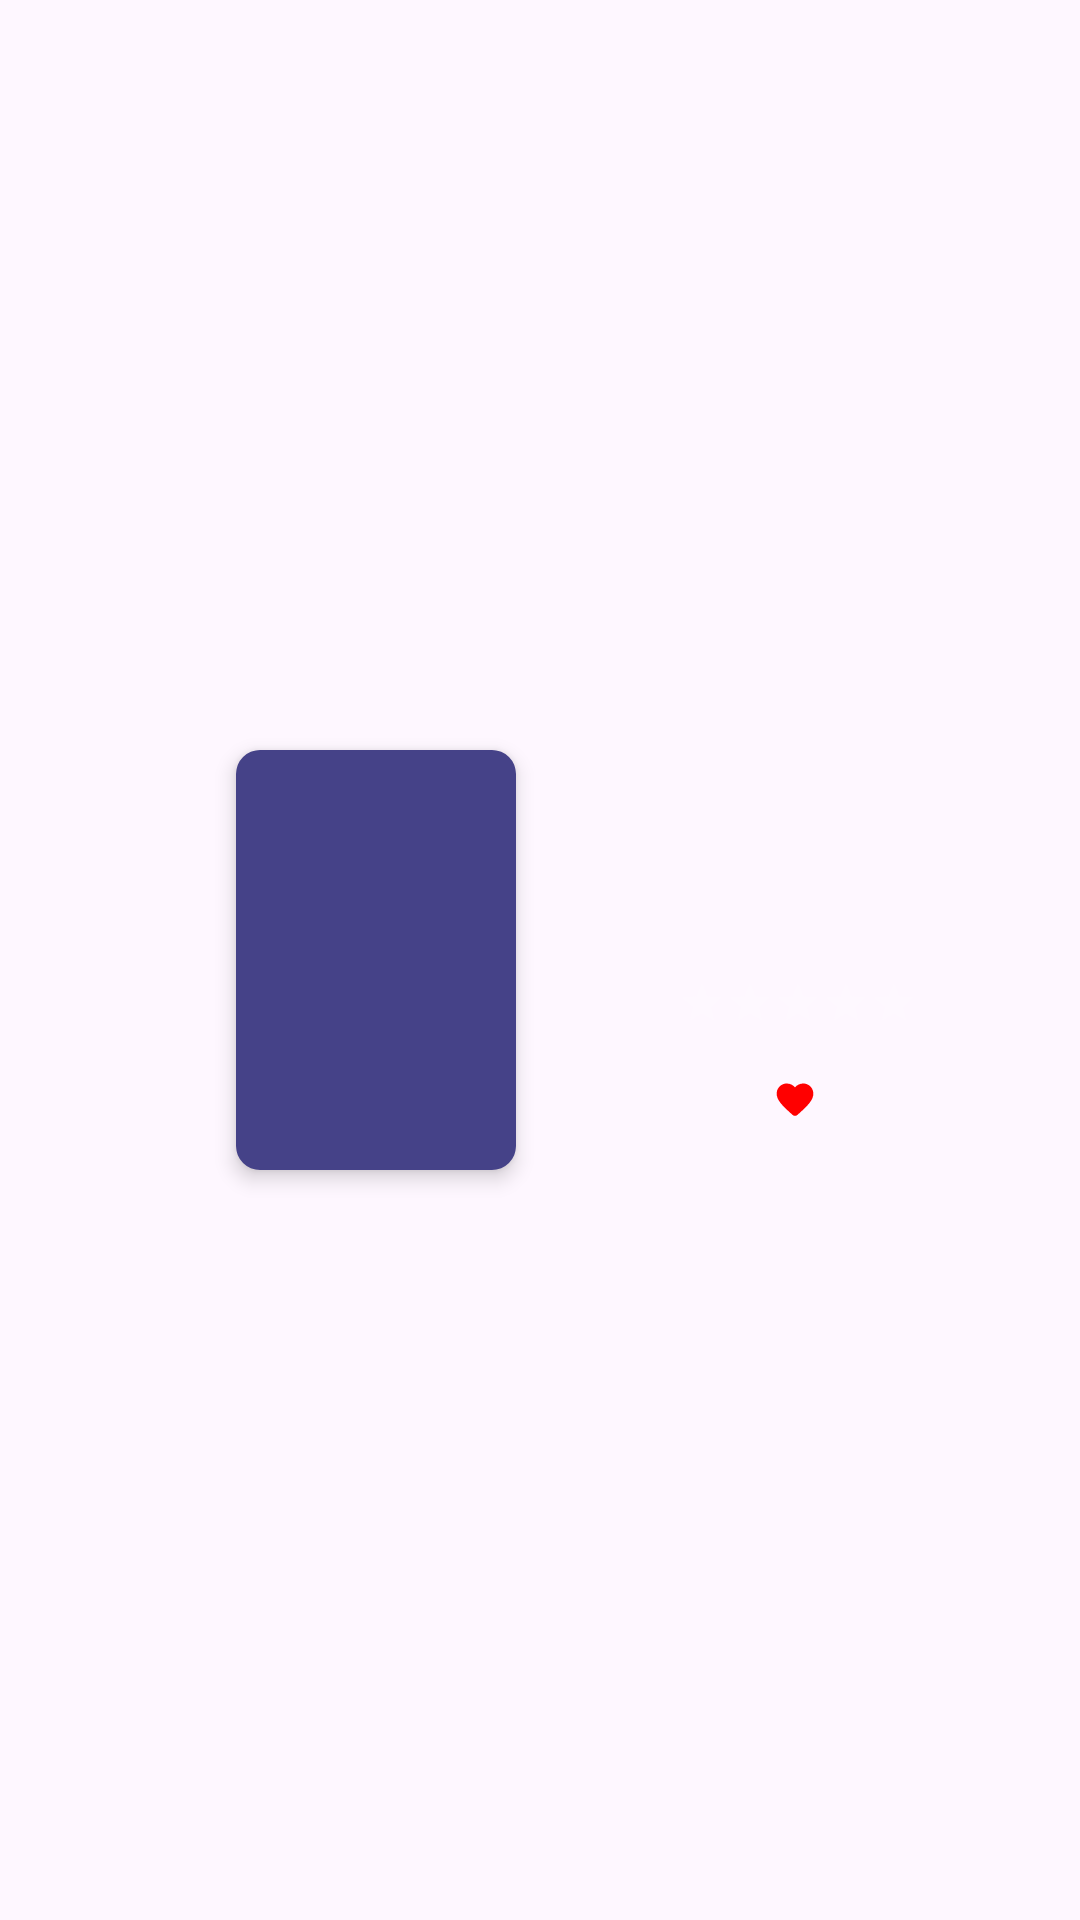

Icons on this 1080 × 1920 Android screen, each with its box as (x1=x1, y1=y1, x2=x2, y2=y2):
favorite: (x1=776, y1=1083, x2=814, y2=1116)
